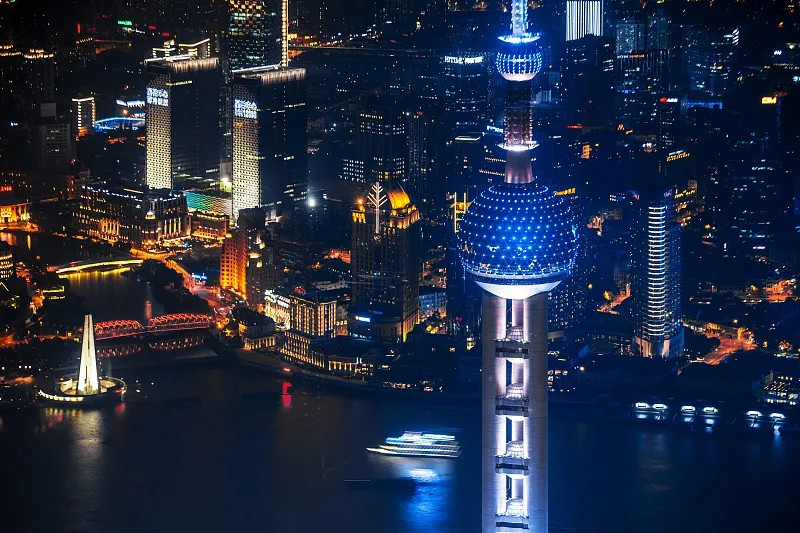Oriental: (458, 1, 581, 533)
